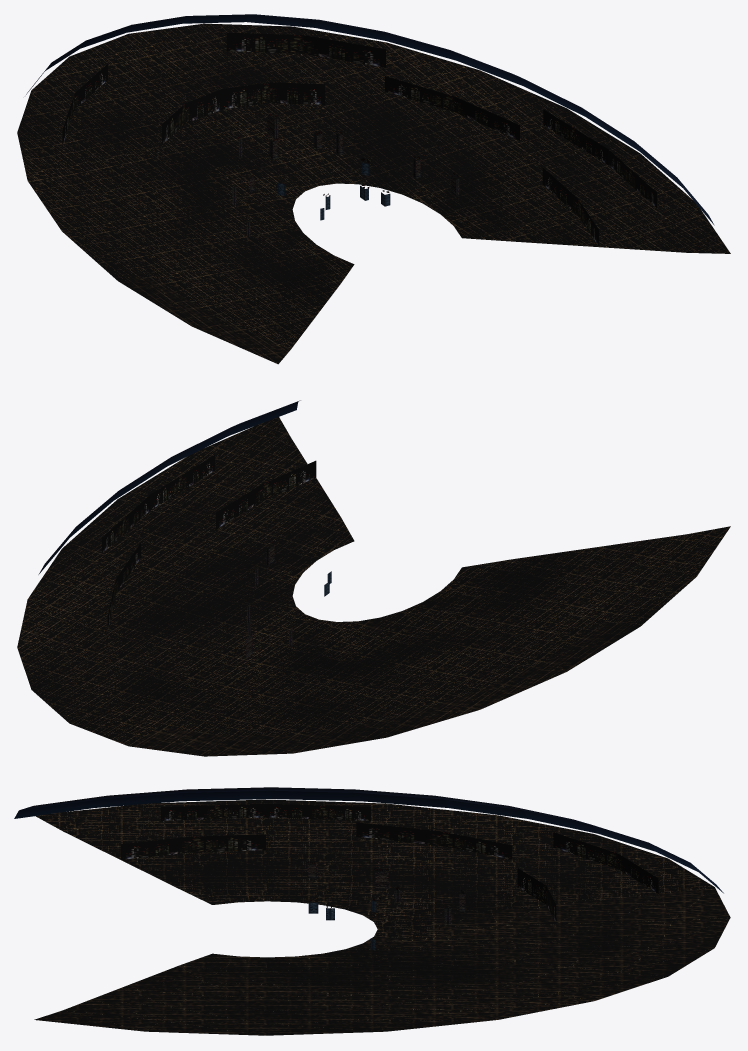
The model's file is sky.glb.
3 renders of one model, top to bottom at view 1: azimuth 30°, elevation 25°; view 2: azimuth 150°, elevation 25°; view 3: azimuth 270°, elevation 25°, orthographic. The views are drawn at different scales.
Visible parts, largest first — view 1: SkyMain (×4); view 2: SkyMain (×4); view 3: SkyMain (×4).
Boxes of the visible parts, box(x1,y1,x2,y2) form: SkyMain (×4): box(17, 14, 730, 364); SkyMain (×4): box(17, 400, 730, 756); SkyMain (×4): box(14, 787, 730, 1035).
Bounding box in the file's own units: 100879 × 13312 × 129164.
Materials: 10 (10 with a texture image).
